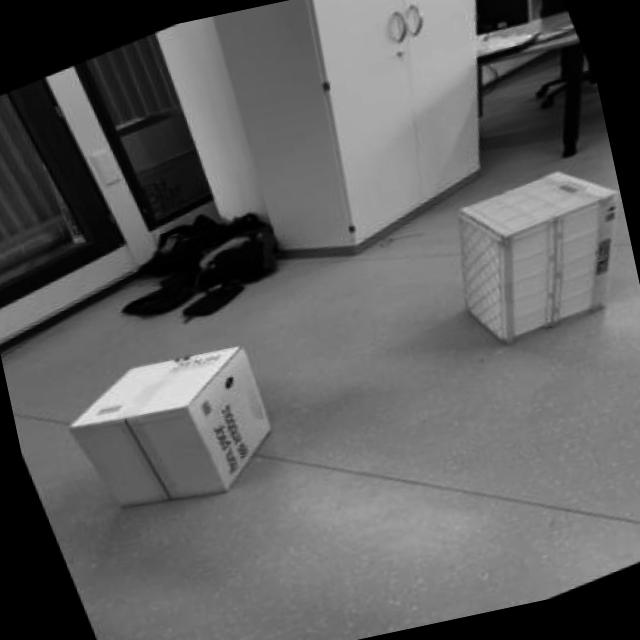box: (19, 288, 342, 564), (408, 133, 640, 381)
